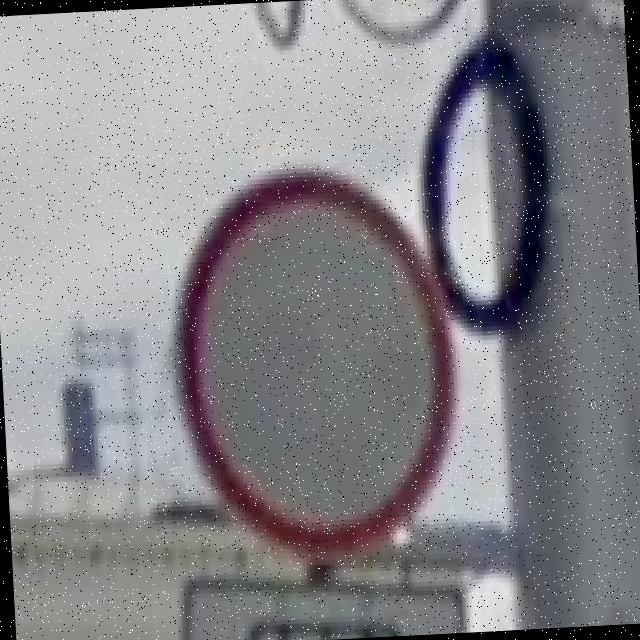Zakaz ruchu w obu kierunkach: (168, 157, 469, 568)
